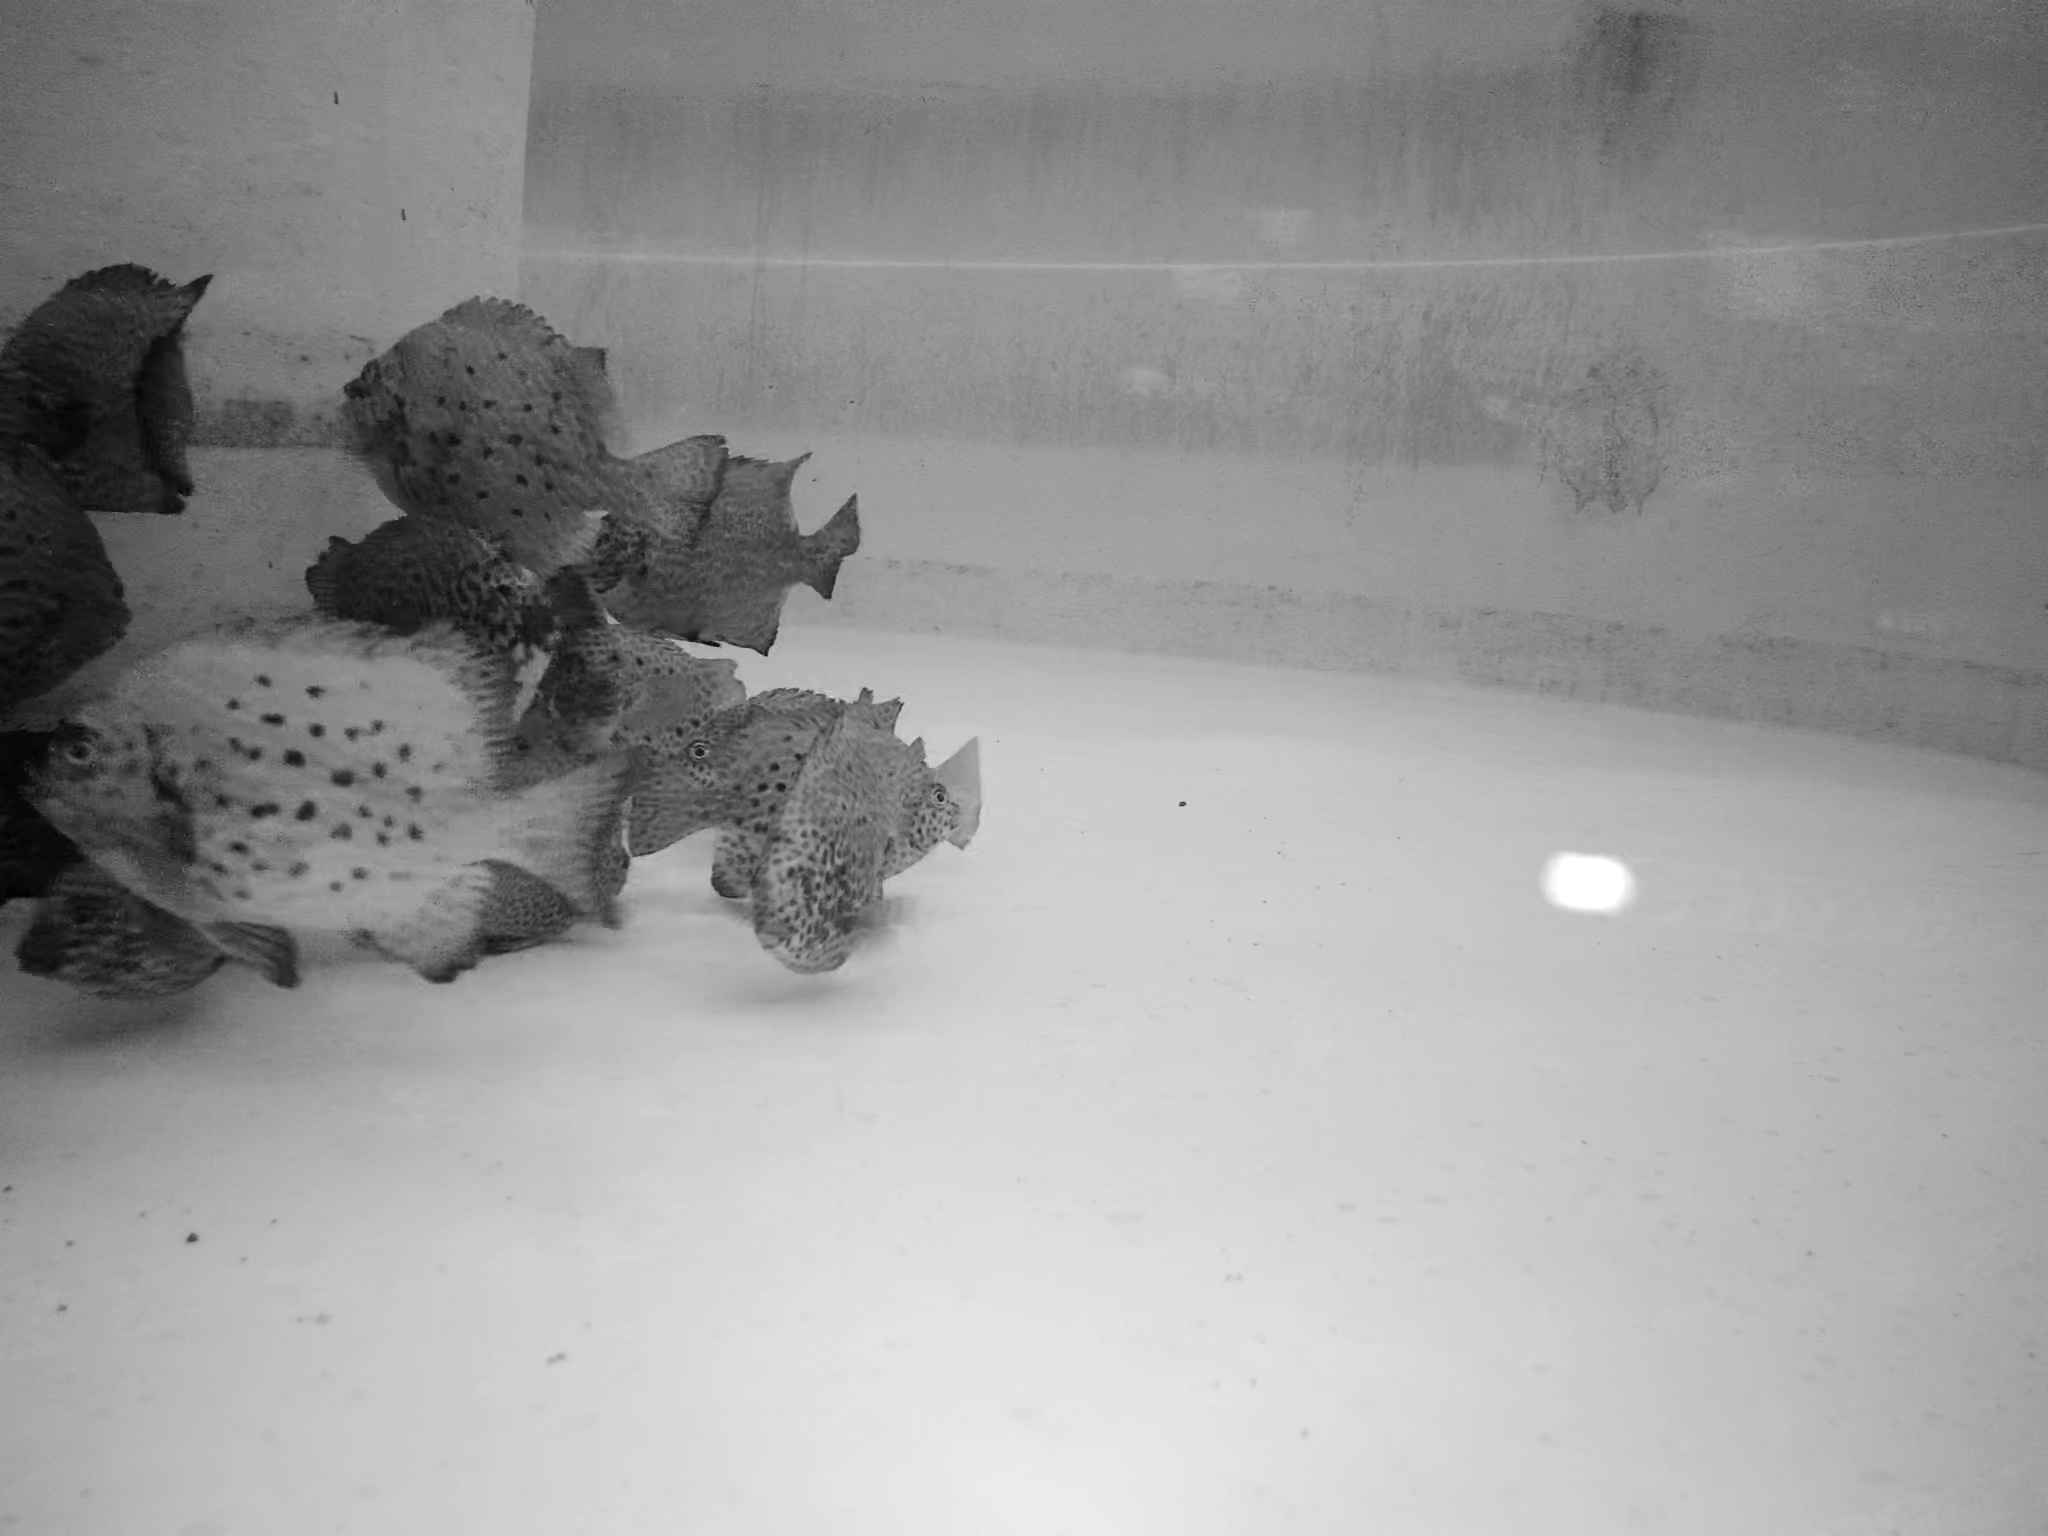fish: (40, 623, 658, 994), (339, 294, 726, 570), (581, 432, 868, 666), (650, 692, 995, 860), (18, 253, 202, 515), (755, 692, 910, 981), (306, 516, 600, 663), (18, 871, 308, 1020), (2, 507, 135, 720), (572, 628, 758, 750)
